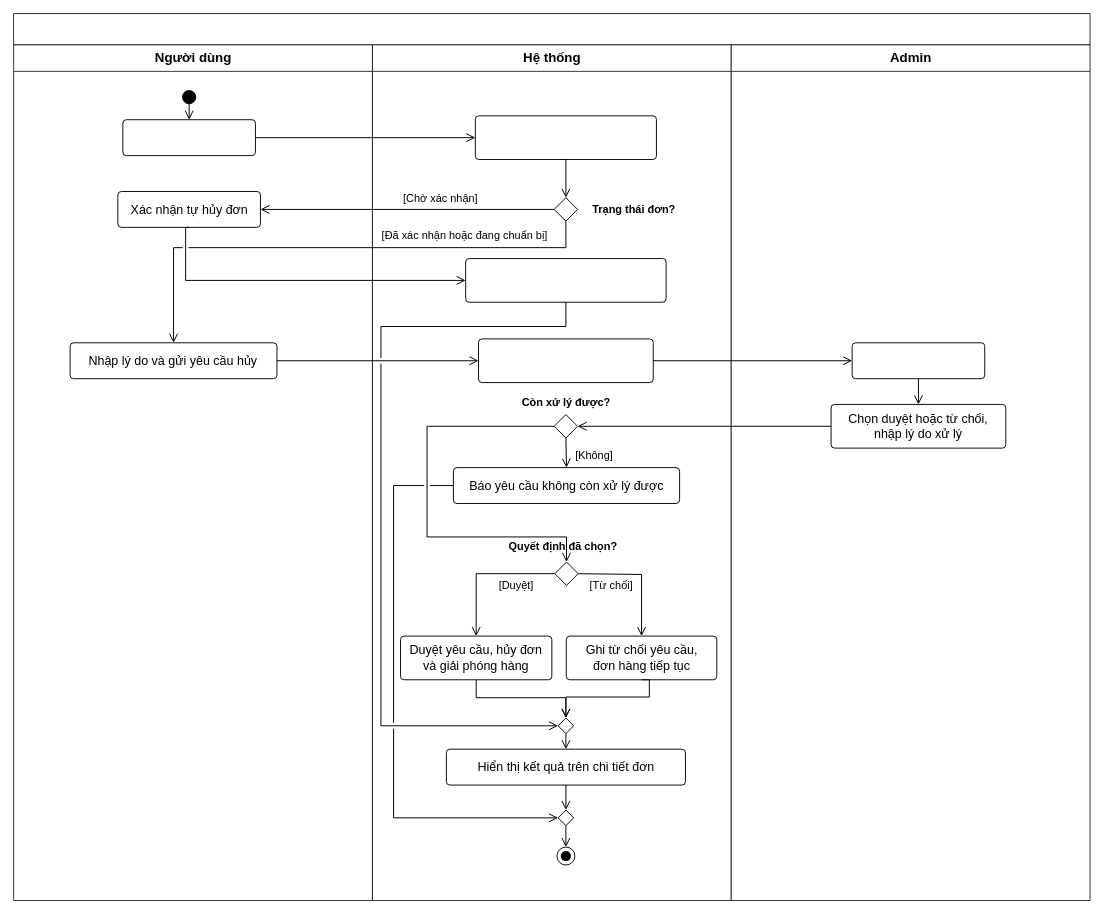
Some shapes in this 1104 by 914 pixel diagram are drawn without their labels. The shapes that lost their labels are listed below. From the top down, each one's centre as x and y in pixels, then its label:
At pixel 551 29: "Hủy đơn hàng".
At pixel 189 137: "Chọn đơn cần hủy".
At pixel 565 137: "Kiểm tra quyền sở hữu đơn và đọc trạng thái".
At pixel 565 280: "Hủy đơn khi còn chờ xác nhận và ghi lịch sử".
At pixel 565 360: "Lưu yêu cầu chờ duyệt, tiếp tục giữ nguyên hàng".
At pixel 918 360: "Mở yêu cầu hủy".
At pixel 500 415: "[Có]".
